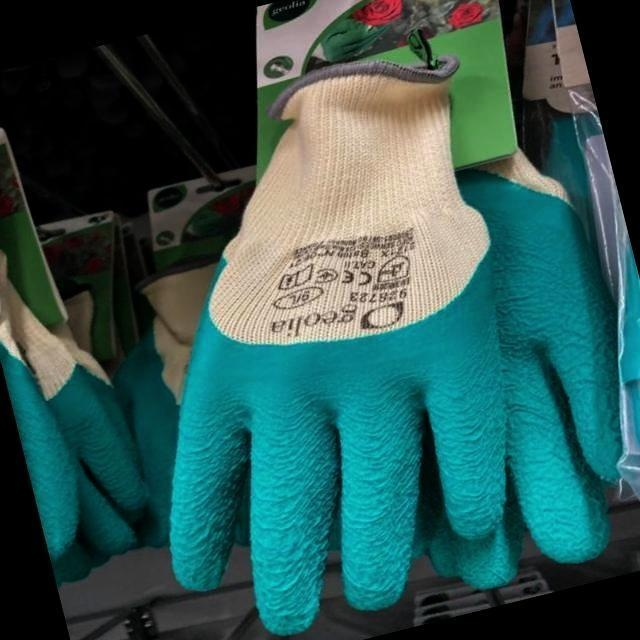Guantes: (183, 83, 516, 611)
